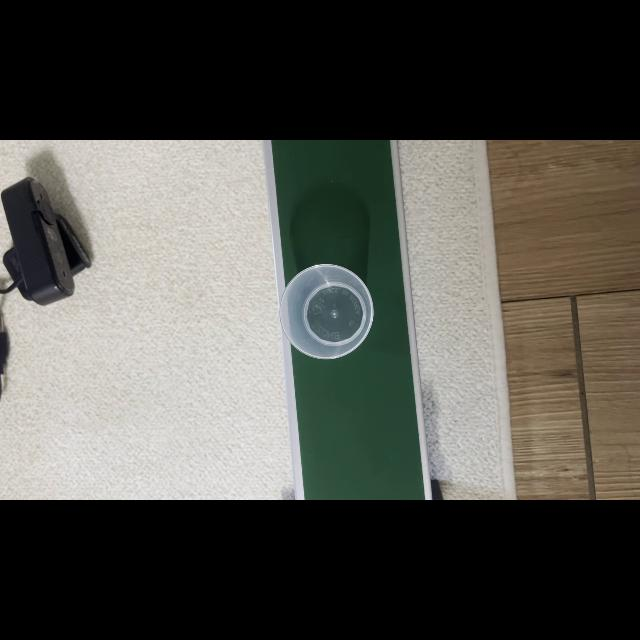clean: (288, 272, 362, 356)
